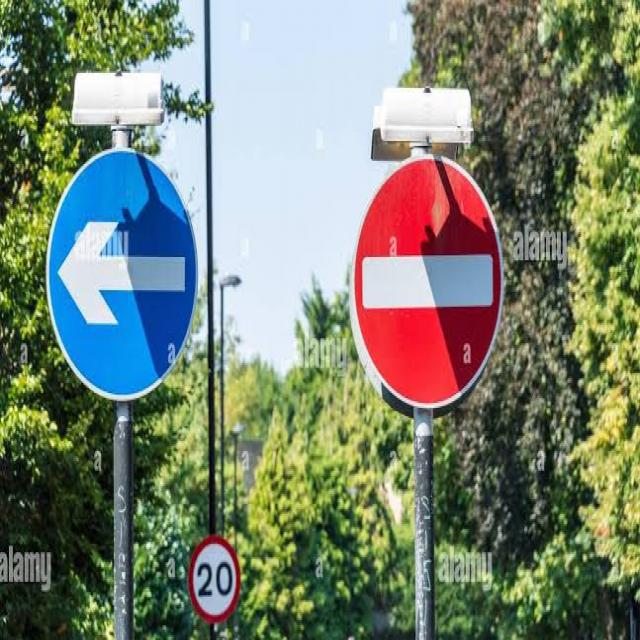No Entry: (348, 151, 502, 408)
